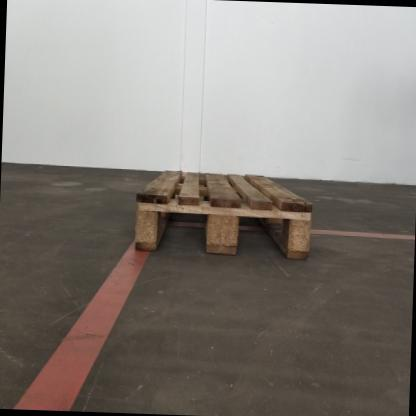BoxFace: (134, 166, 316, 266)
